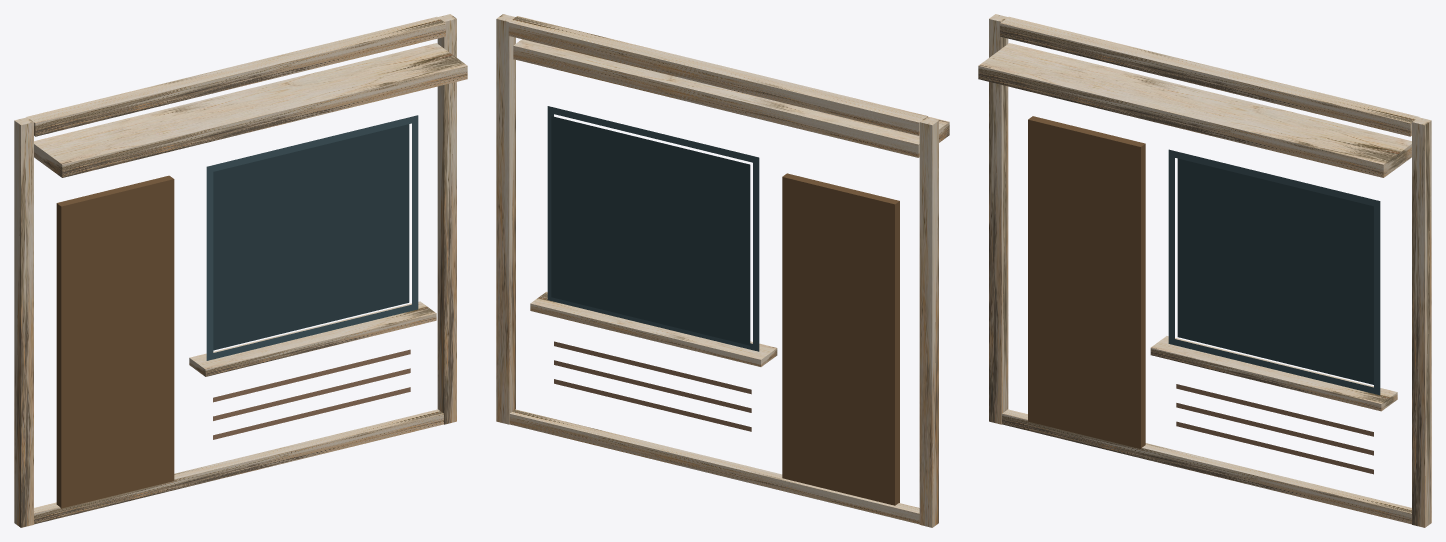
File: facade_tropical_apartment_ground.glb
3 renders of one model, left to right at view 1: azimuth 30°, elevation 25°; view 2: azimuth 150°, elevation 25°; view 3: azimuth 330°, elevation 25°, orthographic.
Parts seen in each view (by area): view 1: lod1_facade_tropical_apartment_ground__VVK_concrete_CC0, lod1_facade_tropical_apartment_ground__VVK_weathered_wood, lod1_facade_tropical_apartment_ground__VVK_dark_glass, lod1_facade_tropical_apartment_ground__VVK_painted_steel, lod1_facade_tropical_apartment_ground__VVK_masonry; view 2: lod1_facade_tropical_apartment_ground__VVK_concrete_CC0, lod1_facade_tropical_apartment_ground__VVK_dark_glass, lod1_facade_tropical_apartment_ground__VVK_weathered_wood, lod1_facade_tropical_apartment_ground__VVK_painted_steel, lod1_facade_tropical_apartment_ground__VVK_masonry; view 3: lod1_facade_tropical_apartment_ground__VVK_concrete_CC0, lod1_facade_tropical_apartment_ground__VVK_weathered_wood, lod1_facade_tropical_apartment_ground__VVK_dark_glass, lod1_facade_tropical_apartment_ground__VVK_painted_steel, lod1_facade_tropical_apartment_ground__VVK_masonry.
Boxes of the visible parts, <box> form: lod1_facade_tropical_apartment_ground__VVK_concrete_CC0: <box>14,14,467,527</box>; lod1_facade_tropical_apartment_ground__VVK_weathered_wood: <box>56,175,174,508</box>; lod1_facade_tropical_apartment_ground__VVK_dark_glass: <box>213,124,409,350</box>; lod1_facade_tropical_apartment_ground__VVK_painted_steel: <box>206,115,418,360</box>; lod1_facade_tropical_apartment_ground__VVK_masonry: <box>213,349,410,439</box>; lod1_facade_tropical_apartment_ground__VVK_concrete_CC0: <box>496,14,949,527</box>; lod1_facade_tropical_apartment_ground__VVK_dark_glass: <box>551,116,750,345</box>; lod1_facade_tropical_apartment_ground__VVK_weathered_wood: <box>782,173,899,505</box>; lod1_facade_tropical_apartment_ground__VVK_painted_steel: <box>547,106,759,351</box>; lod1_facade_tropical_apartment_ground__VVK_masonry: <box>554,341,751,431</box>; lod1_facade_tropical_apartment_ground__VVK_concrete_CC0: <box>978,14,1431,527</box>; lod1_facade_tropical_apartment_ground__VVK_weathered_wood: <box>1028,116,1145,448</box>; lod1_facade_tropical_apartment_ground__VVK_dark_glass: <box>1177,158,1373,384</box>; lod1_facade_tropical_apartment_ground__VVK_painted_steel: <box>1168,149,1380,395</box>; lod1_facade_tropical_apartment_ground__VVK_masonry: <box>1176,384,1373,474</box>.
Size of the model in its own units: 3.4 by 3 by 0.448.
Materials: 5 (1 with a texture image).
